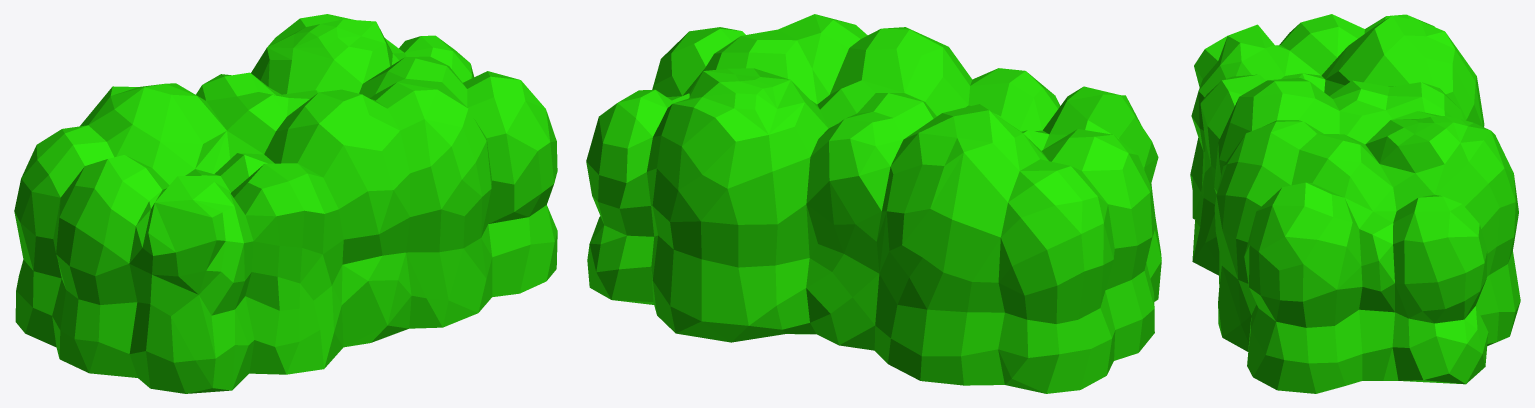
Rendered from Bush_1.fbx.
3 renders of one model, left to right at view 1: azimuth 30°, elevation 25°; view 2: azimuth 150°, elevation 25°; view 3: azimuth 270°, elevation 25°, orthographic. The views are drawn at different scales.
Parts seen in each view (by area): view 1: Low_Poly; view 2: Low_Poly; view 3: Low_Poly.
Boxes of the visible parts, bbox=[...] form: Low_Poly: bbox=[14, 14, 557, 393]; Low_Poly: bbox=[586, 14, 1161, 393]; Low_Poly: bbox=[1190, 14, 1520, 393].
Bounding box in the file's own units: 99.94 × 44.89 × 63.25.
